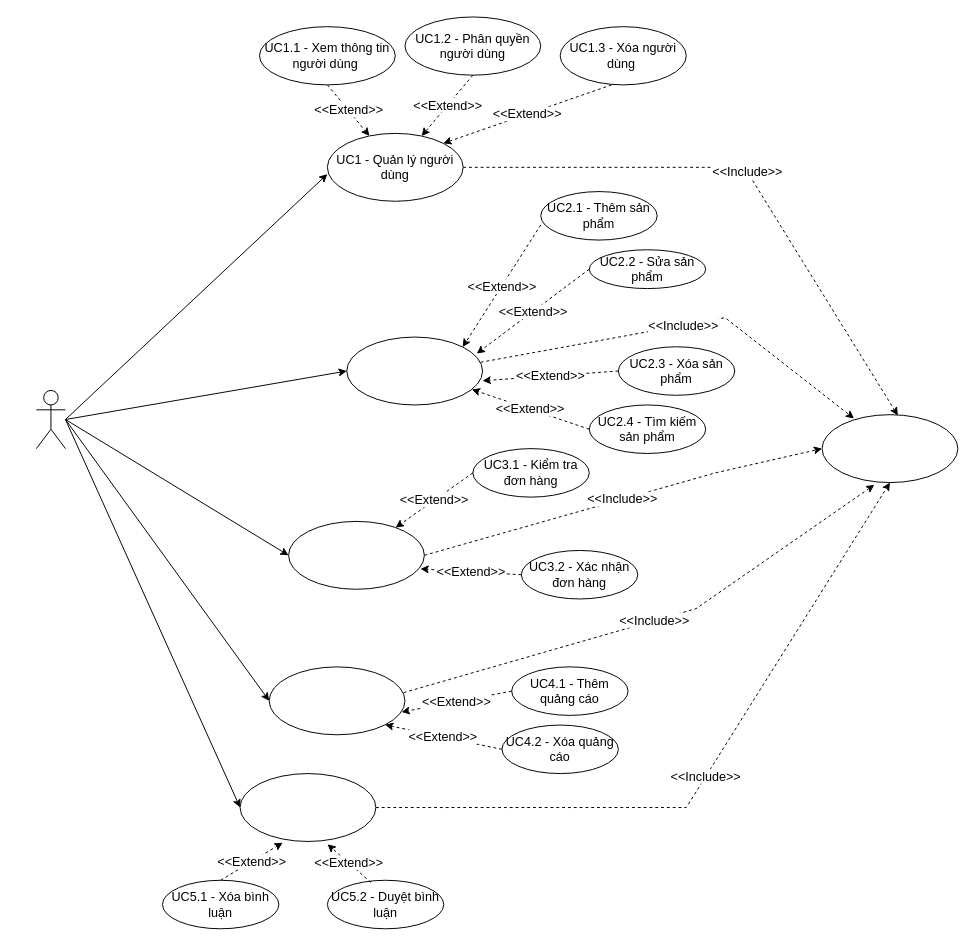
Some shapes in this 975 by 946 pixel diagram are drawn without their labels. Here are the shapes that lost their labels. From the top down, the centre of each, then its label:
At (x=414, y=370): "UC2 -Quản lý sản phẩm".
At (x=50, y=419): "A01 - Admin".
At (x=889, y=448): "UC6 - Đăng nhập".
At (x=356, y=554): "UC3 - Quản lý đơn hàng".
At (x=336, y=700): "UC4 - Quản lý quảng cáo".
At (x=307, y=807): "UC5 - Bình luận".
